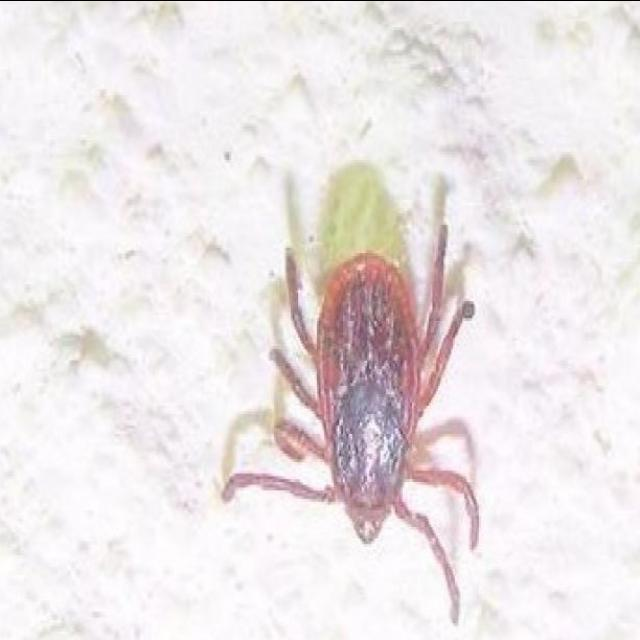Rhipicephalus Sanguineus-F: (218, 179, 483, 622)
